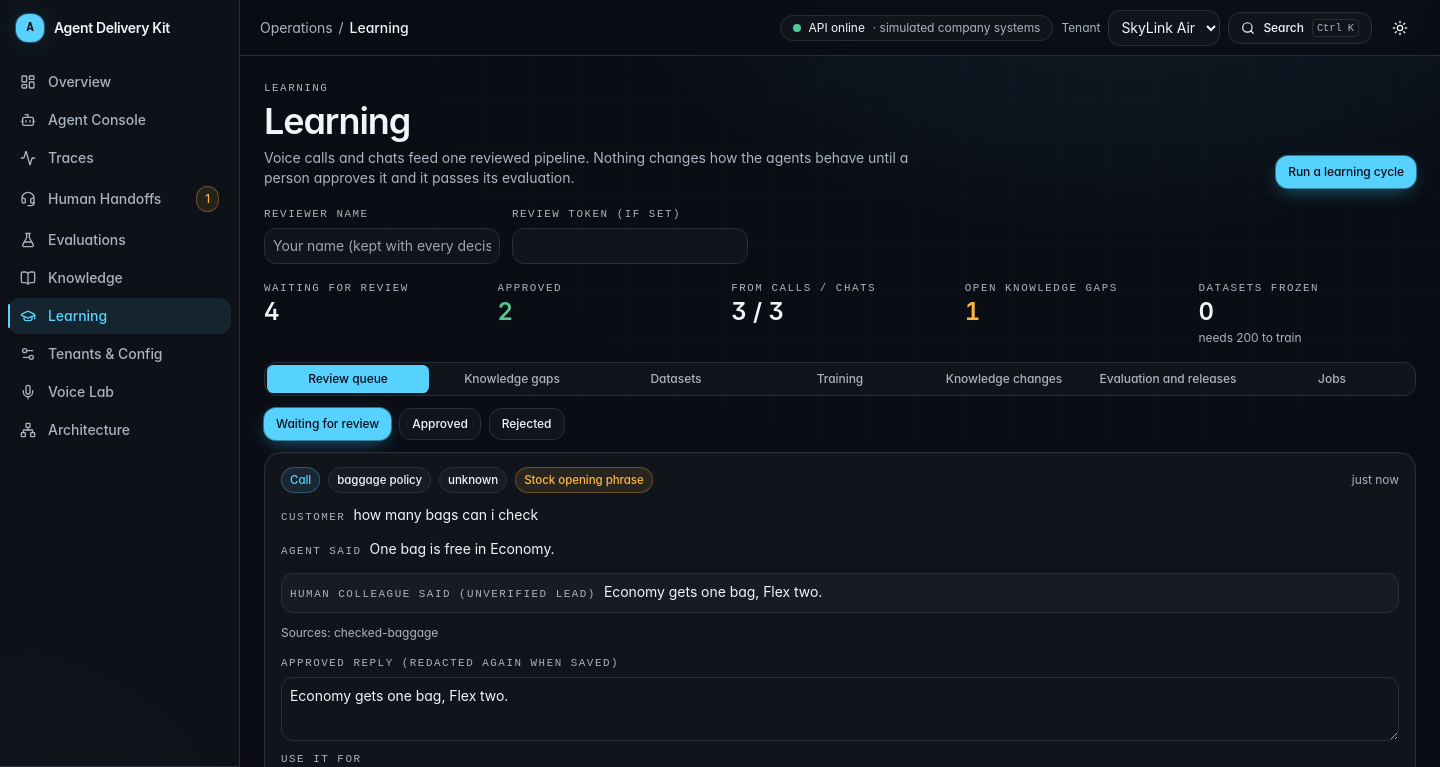
it: Learning console: training and knowledge changes › a candidate model offers comparison and shadow, and Promote stays disabled until it passed
Click the tab "Evaluation and releases". click: [1168, 379]
box: x1=1087 y1=365 x2=1249 y2=393
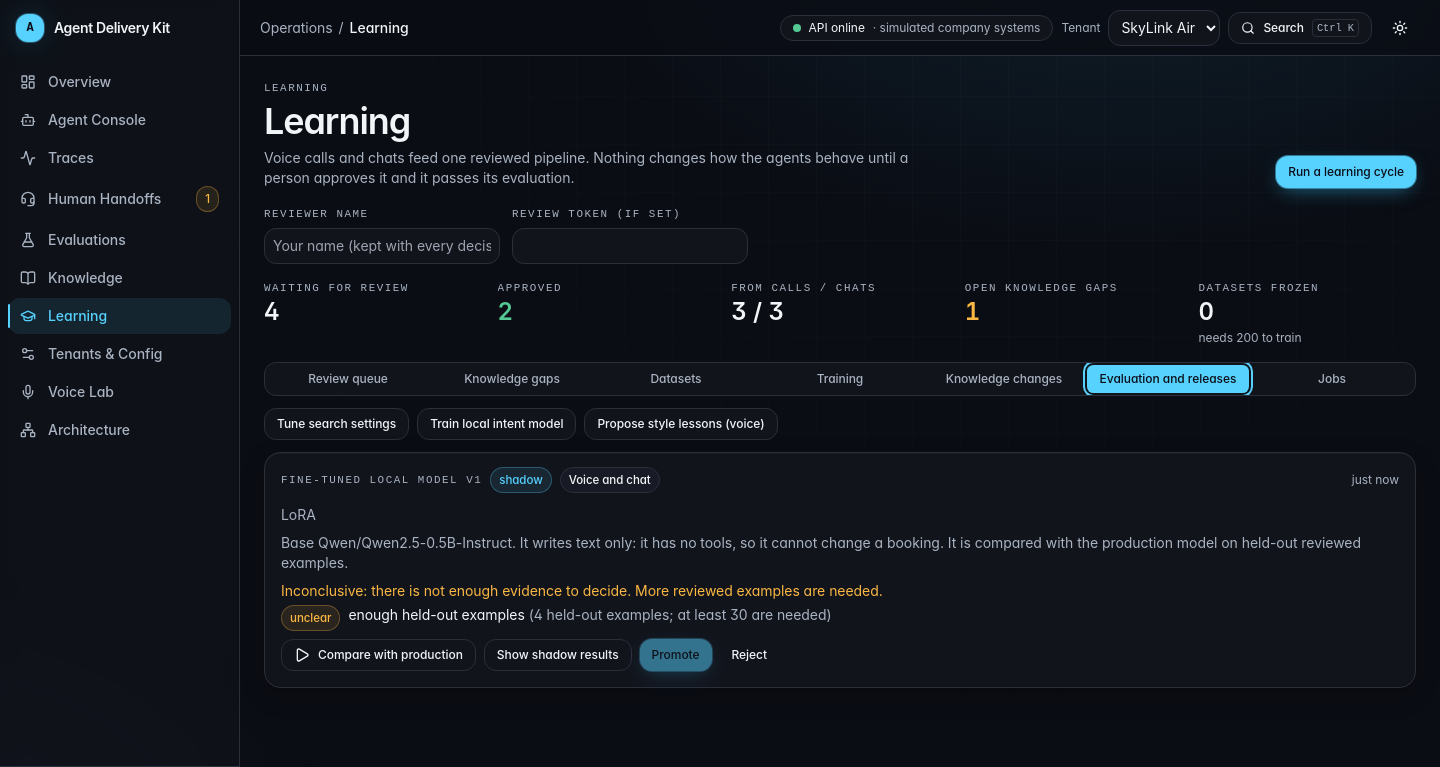
Now the text "Inconclusive: there is not enough evidence" is shown, box x1=281 y1=582 x2=883 y2=599
Now the button "Promote" is disabled, box x1=640 y1=639 x2=712 y2=671
Now the text "it has no tools, so it cannot change a booking" is shown, box x1=281 y1=534 x2=1361 y2=571
